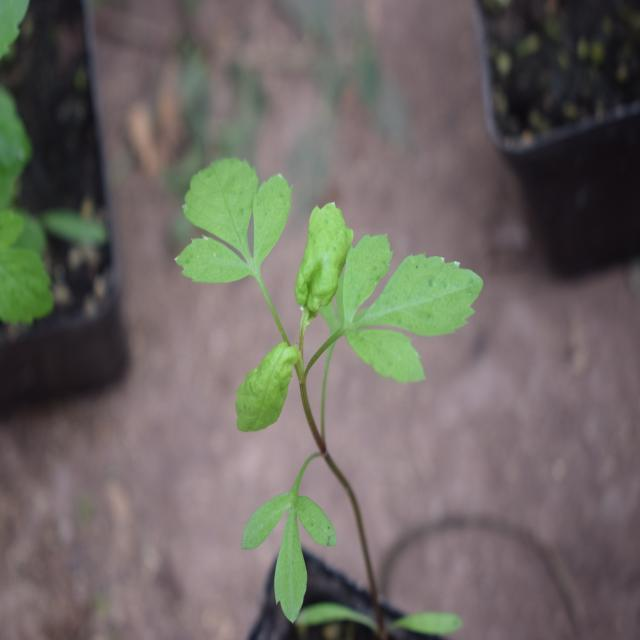Bidens pilosa: (173, 152, 494, 615)
